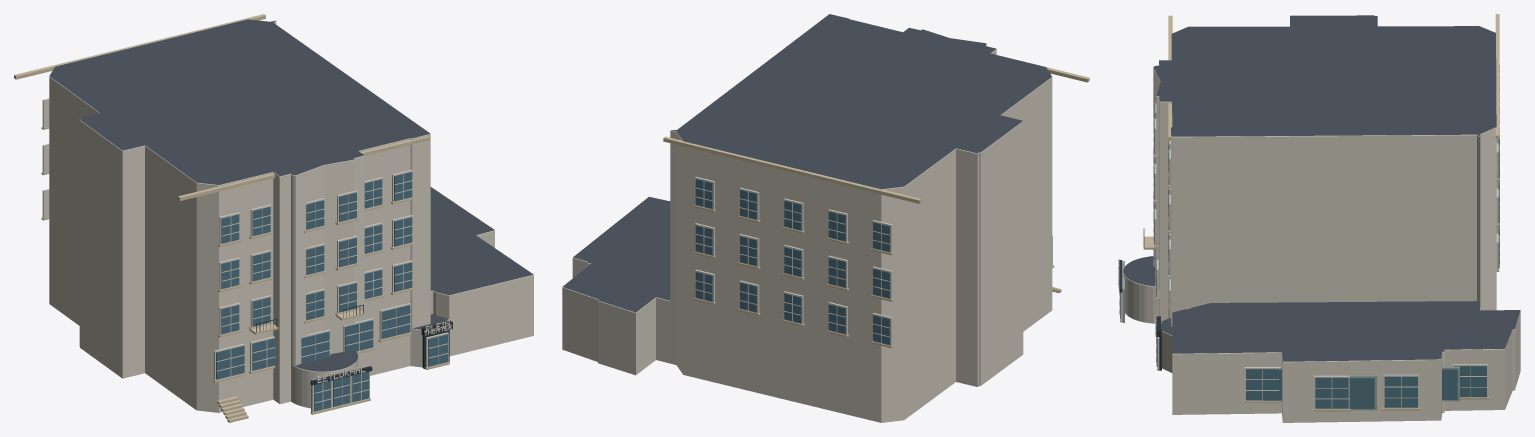
Rendered from plein-theater.glb.
The picture shows the model from 3 angles, left to right: view 1: azimuth 30°, elevation 25°; view 2: azimuth 150°, elevation 25°; view 3: azimuth 270°, elevation 25°; orthographic projection. The views are drawn at different scales.
Parts seen in each view (by area): view 1: plein-theater; view 2: plein-theater; view 3: plein-theater.
Part boxes in pixels (bbox=[...]): plein-theater: bbox=[14, 14, 533, 422]; plein-theater: bbox=[562, 14, 1089, 422]; plein-theater: bbox=[1118, 14, 1520, 422].
Bounding box in the file's own units: 31.16 × 18.16 × 29.03.
